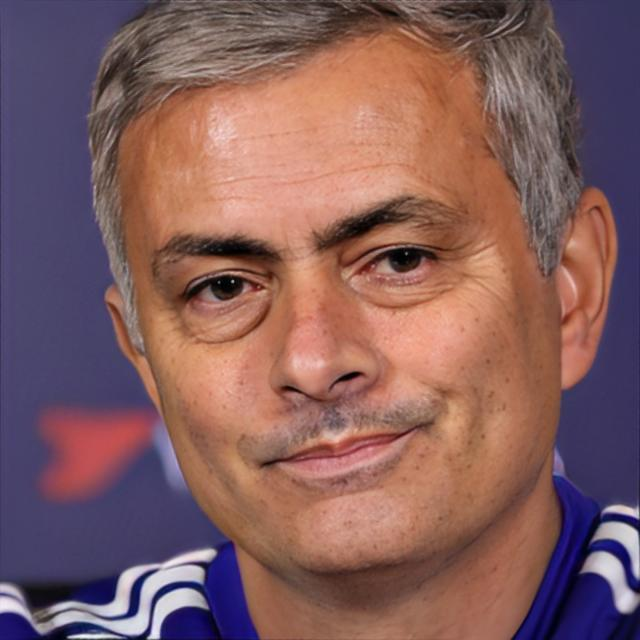content: (111, 15, 564, 588)
